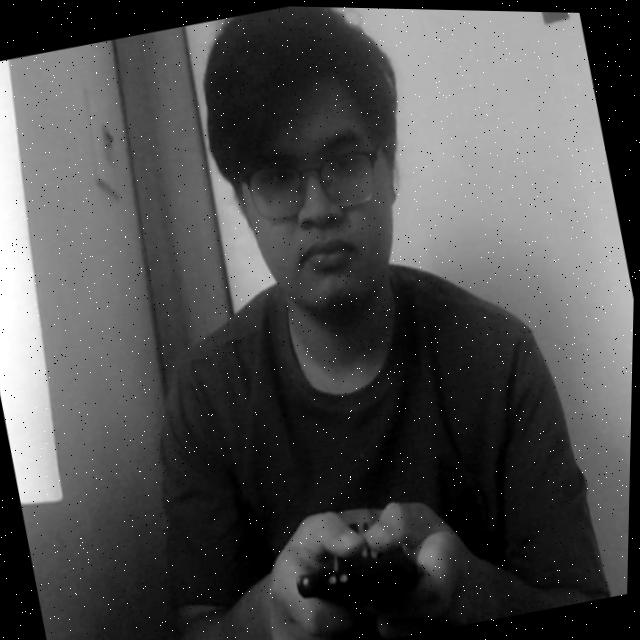phone: (281, 505, 445, 627)
